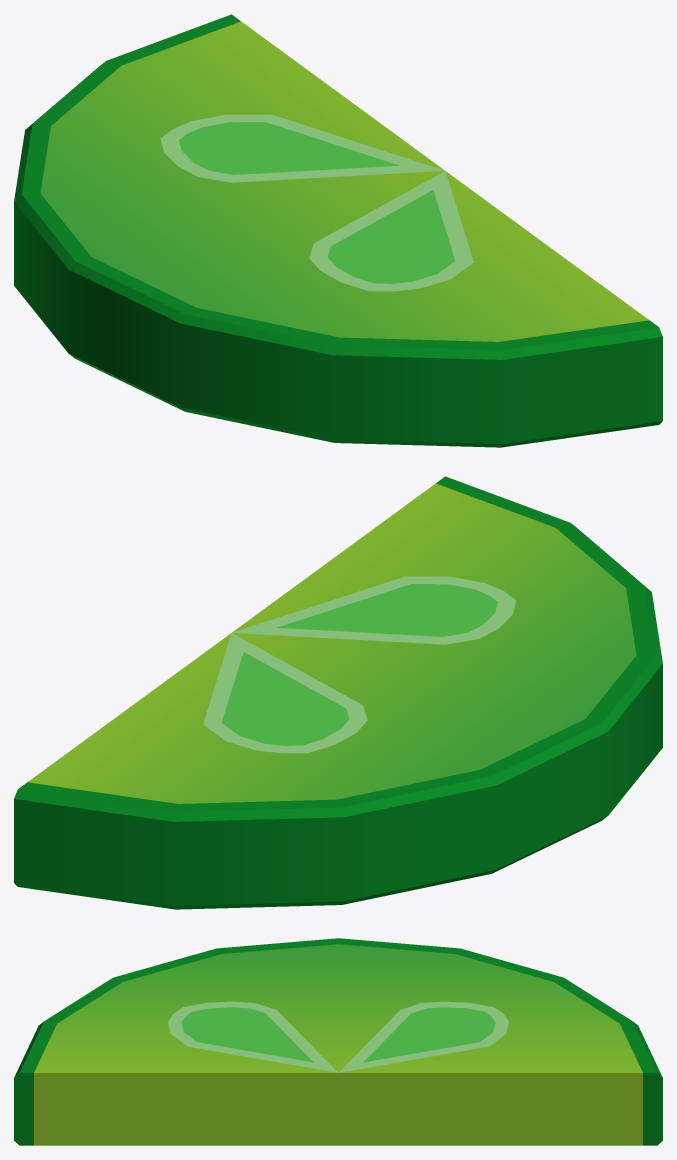
The model's file is Picule_slice_half.fbx.
3 views of the same model, one above another, from view 1: azimuth 30°, elevation 25°; view 2: azimuth 150°, elevation 25°; view 3: azimuth 270°, elevation 25° (orthographic). The views are drawn at different scales.
Visible parts, largest first — view 1: Picule_slice_half; view 2: Picule_slice_half; view 3: Picule_slice_half.
Boxes of the visible parts, x1,y1,x2,y2 form: Picule_slice_half: (14, 14, 662, 447); Picule_slice_half: (14, 476, 662, 909); Picule_slice_half: (14, 938, 662, 1145).
Size of the model in its own units: 23.43 by 46.86 by 5.8.
